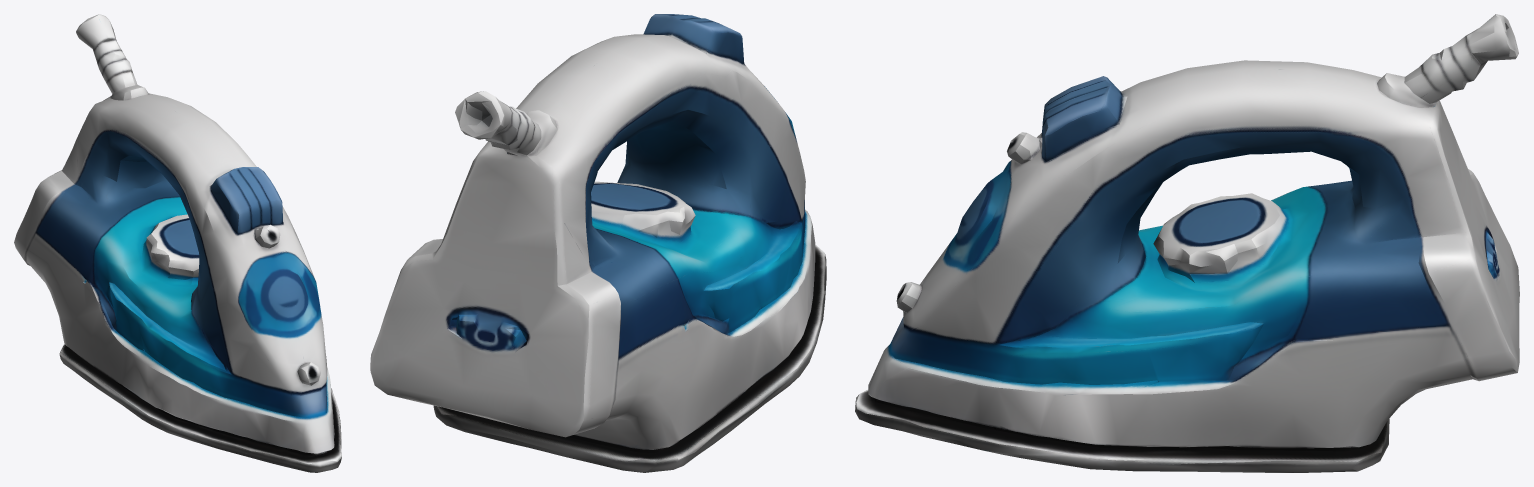
The model's file is PressingIron.glb.
3 views of the same model, side by side, from view 1: azimuth 30°, elevation 25°; view 2: azimuth 150°, elevation 25°; view 3: azimuth 270°, elevation 25° (orthographic). The views are drawn at different scales.
Visible parts, largest first — view 1: geometry_0; view 2: geometry_0; view 3: geometry_0.
Part boxes in pixels (x1=…): geometry_0: x1=14, y1=14, x2=341, y2=472; geometry_0: x1=370, y1=14, x2=826, y2=472; geometry_0: x1=855, y1=14, x2=1519, y2=472.
Size of the model in its own units: 0.121 by 0.1869 by 0.28.
1 material, 1 textured.
